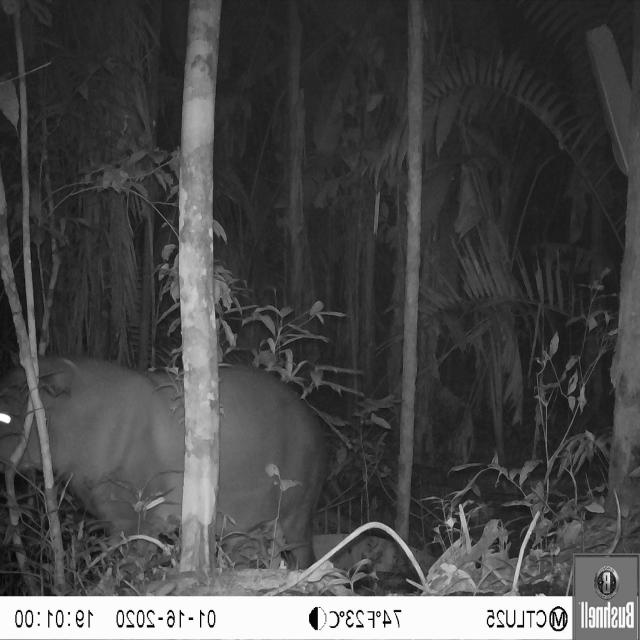Lowland Tapir: (0, 348, 341, 574)
